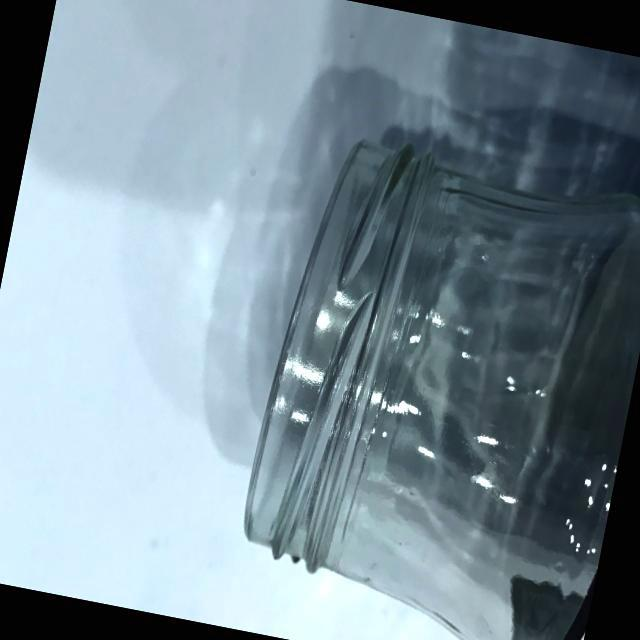glass: (207, 125, 640, 640)
